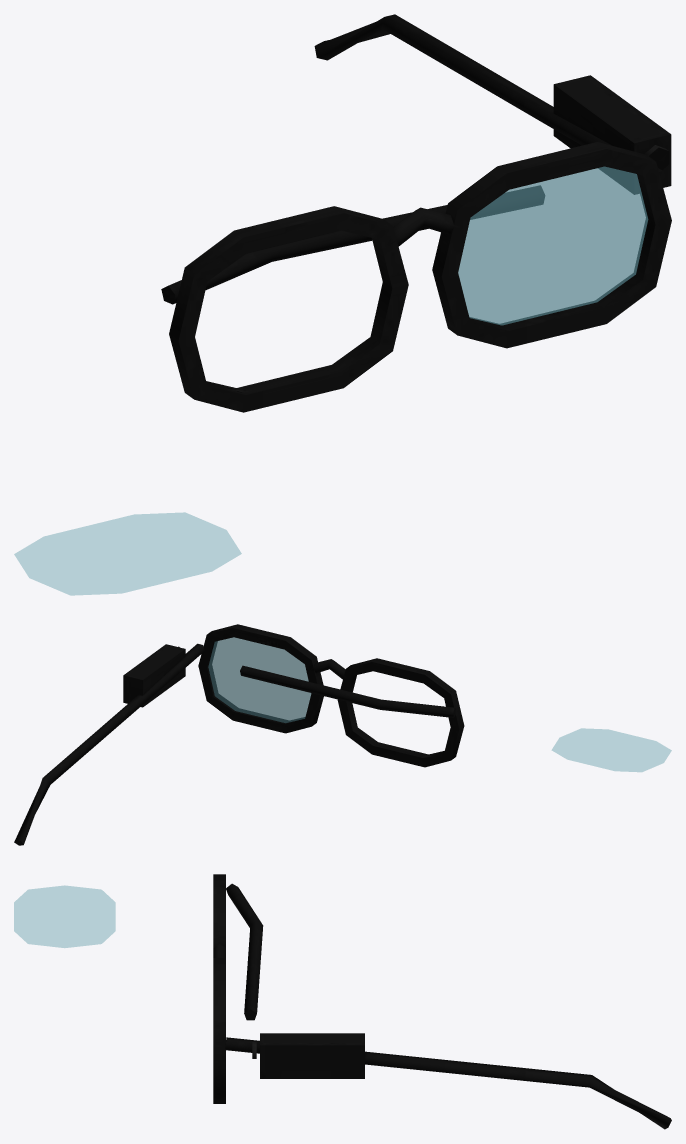
File: ar_glasses_lod1_web.glb
3 renders of one model, top to bottom at view 1: azimuth 30°, elevation 25°; view 2: azimuth 150°, elevation 25°; view 3: azimuth 270°, elevation 25°, orthographic. The views are drawn at different scales.
Visible parts, largest first — view 1: ARGlasses_Frame, Glass_Lens; view 2: ARGlasses_Frame, Glass_Lens; view 3: ARGlasses_Frame, Glass_Lens.
Boxes of the visible parts, box(x1,y1,x2,y2) form: ARGlasses_Frame: box(161, 14, 671, 412); Glass_Lens: box(14, 166, 648, 595); ARGlasses_Frame: box(14, 624, 464, 845); Glass_Lens: box(208, 637, 671, 772); ARGlasses_Frame: box(213, 874, 671, 1129); Glass_Lens: box(14, 885, 115, 947).
Size of the model in its own units: 0.1925 by 0.0422 by 0.2126.
Materials: 2 (1 with a texture image).
